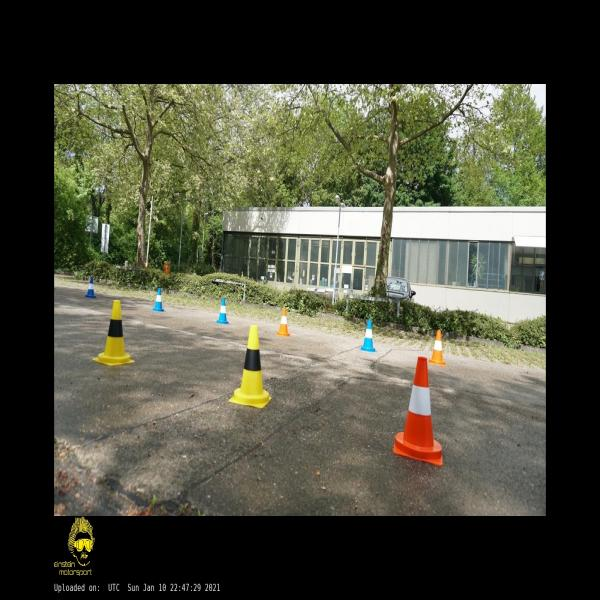blue_cone: (360, 318, 376, 352), (215, 298, 228, 323), (152, 288, 164, 311), (85, 277, 96, 298)
orange_cone: (393, 355, 442, 466), (428, 330, 446, 364), (276, 308, 290, 336)
yellow_cone: (228, 325, 272, 408), (92, 300, 135, 366)
